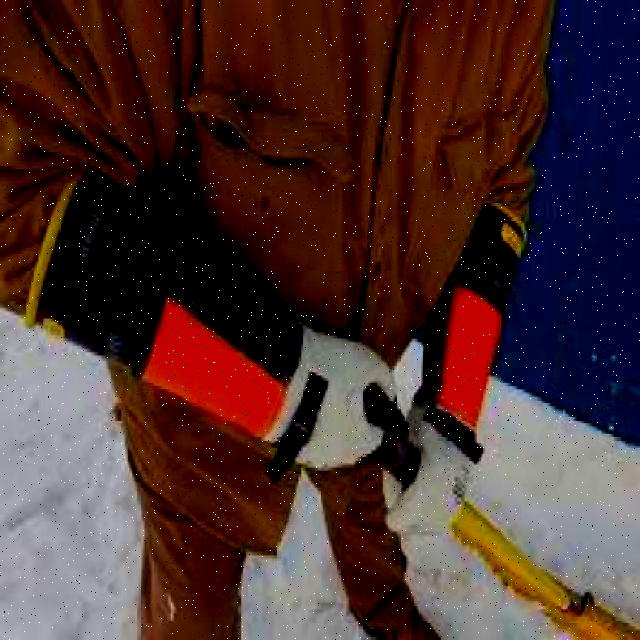Gloves: (62, 185, 404, 490), (389, 292, 500, 540)
